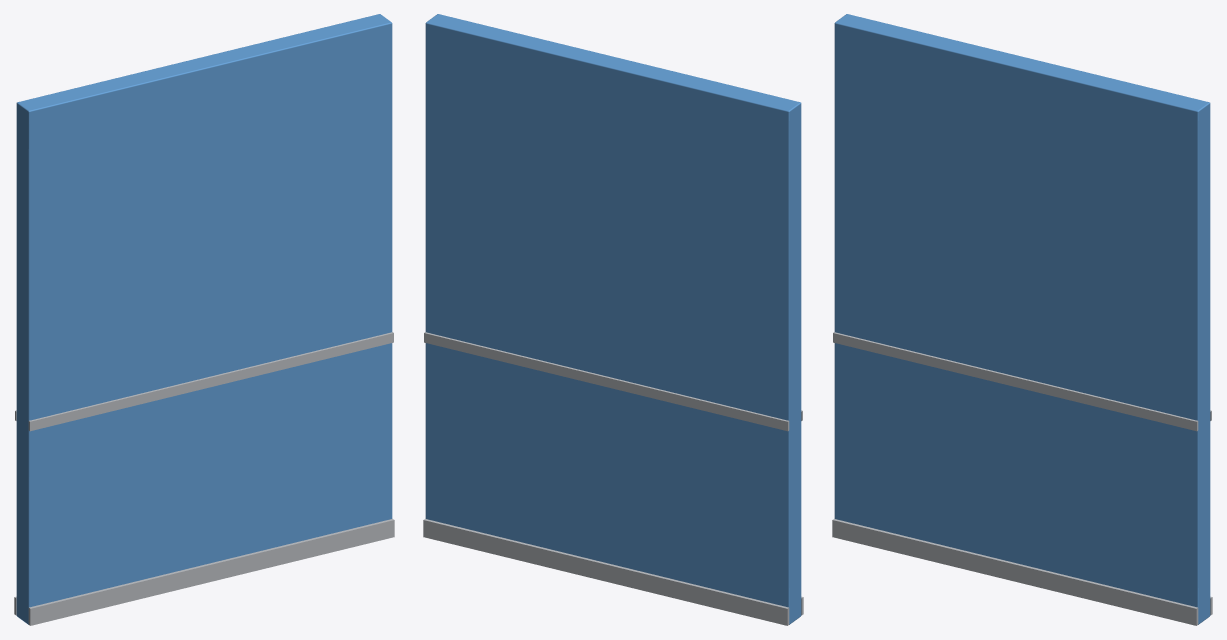
File: lab-wall-module-blue.glb
3 renders of one model, left to right at view 1: azimuth 30°, elevation 25°; view 2: azimuth 150°, elevation 25°; view 3: azimuth 330°, elevation 25°, orthographic.
Parts seen in each view (by area): view 1: lab-wall-module-blue; view 2: lab-wall-module-blue; view 3: lab-wall-module-blue.
Boxes of the visible parts, x1,y1,x2,y2 form: lab-wall-module-blue: (14,14,394,625); lab-wall-module-blue: (423,14,803,625); lab-wall-module-blue: (832,14,1212,625).
Size of the model in its own units: 2 by 2.7 by 0.1521.
